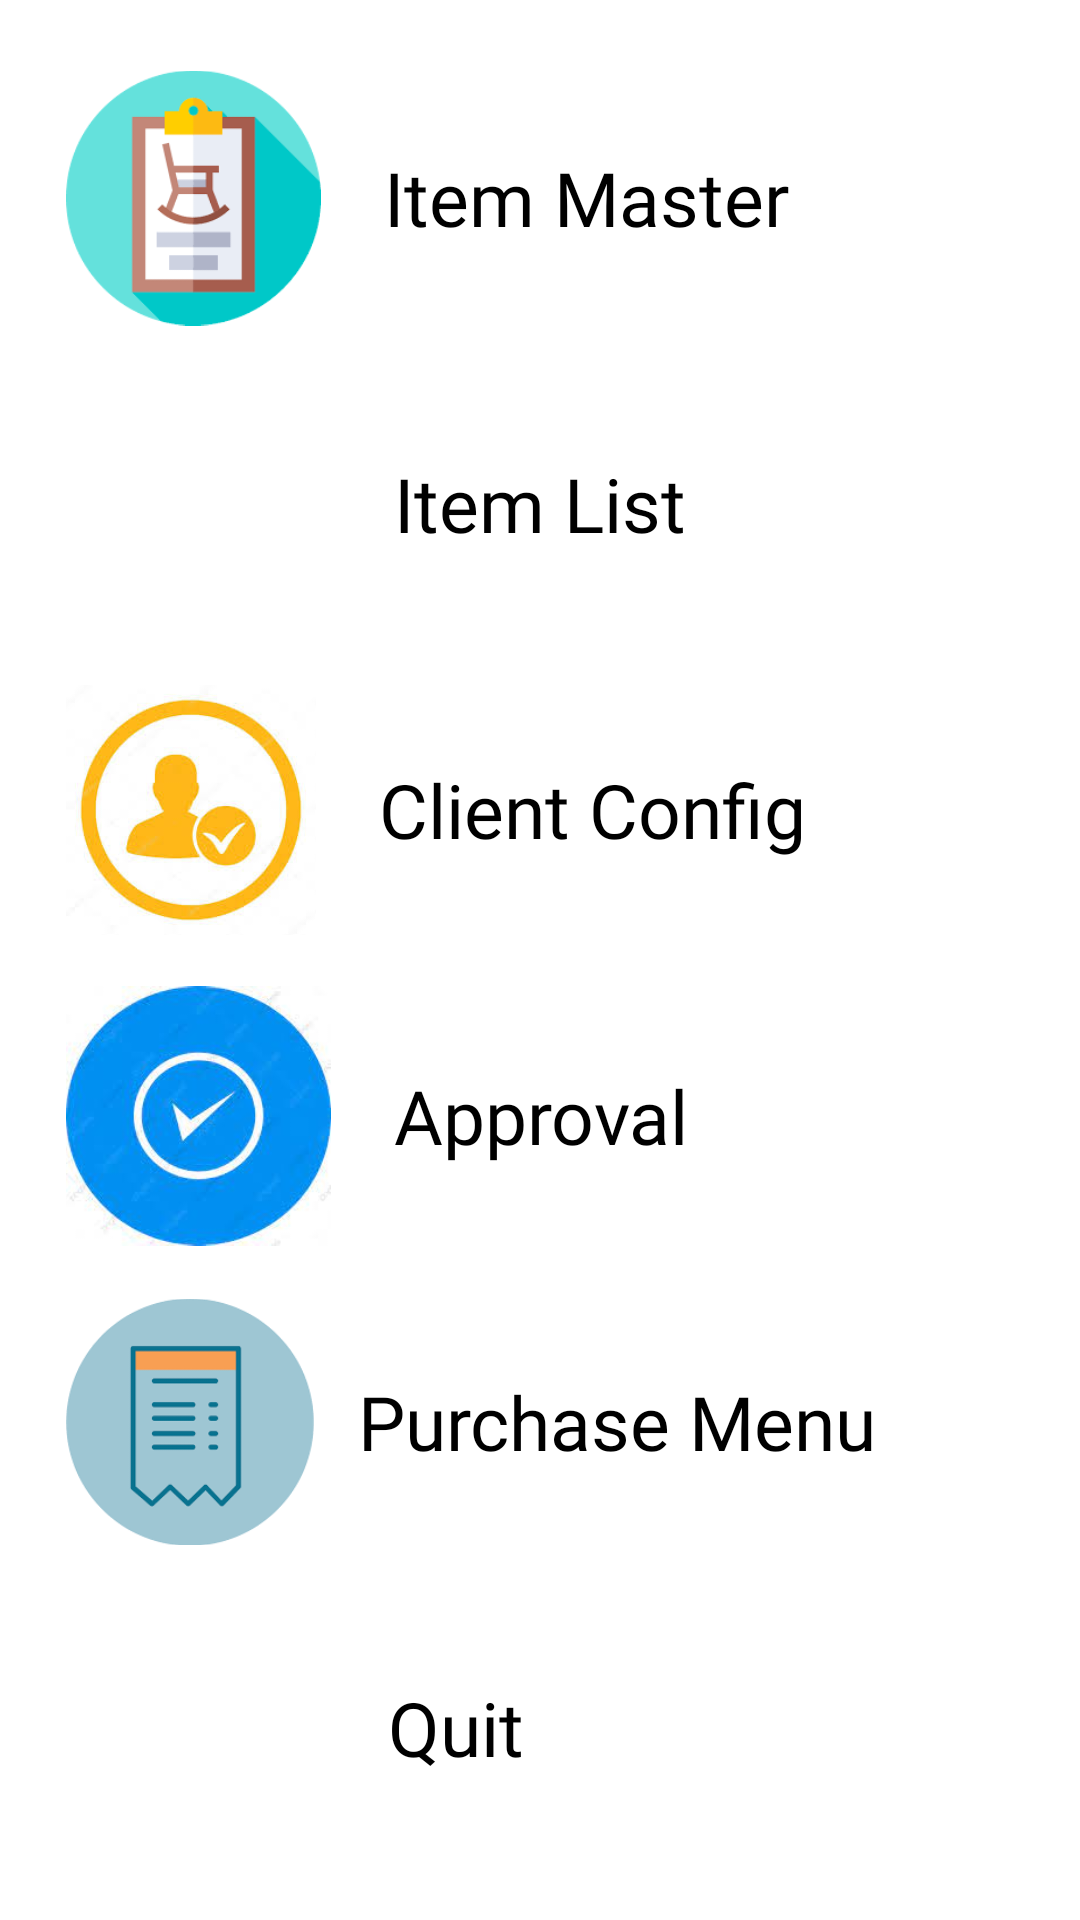

Icons on this 1080*1920 Android screen, each with the point to tap as (x,y):
clientlist: (191,810)
hopurchase: (190,1422)
